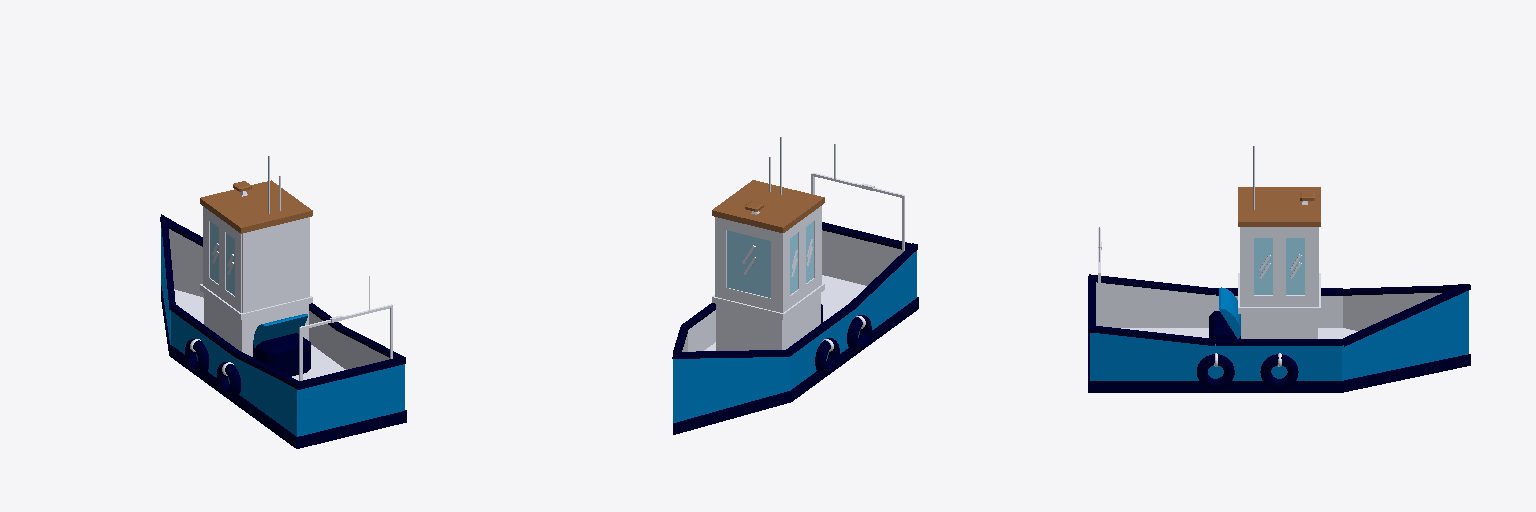
Rendered from SmolBoat.obj.
The picture shows the model from 3 angles: view 1: azimuth 30°, elevation 25°; view 2: azimuth 150°, elevation 25°; view 3: azimuth 270°, elevation 25°; orthographic projection.
Parts seen in each view (by area): view 1: block, block_bevel, wedge, torus%, arc, blockTriangle; view 2: block, wedge, blockTriangle, torus%; view 3: block, wedge, blockTriangle, torus%, arc, block_bevel.
Part boxes in pixels (bbox=[...]): block: bbox=[161, 180, 406, 448]; block_bevel: bbox=[233, 181, 310, 376]; wedge: bbox=[162, 229, 389, 401]; torus%: bbox=[185, 339, 240, 398]; arc: bbox=[253, 314, 307, 347]; blockTriangle: bbox=[160, 214, 203, 350]; block: bbox=[673, 173, 918, 421]; wedge: bbox=[679, 251, 916, 386]; blockTriangle: bbox=[672, 350, 791, 434]; torus%: bbox=[815, 315, 871, 375]; block: bbox=[1088, 187, 1461, 392]; wedge: bbox=[1095, 282, 1462, 345]; blockTriangle: bbox=[1337, 284, 1470, 392]; torus%: bbox=[1197, 353, 1298, 389]; arc: bbox=[1219, 287, 1240, 338]; block_bevel: bbox=[1209, 192, 1314, 338].
Bounding box in the file's own units: 1.19 × 1.9 × 3.01.